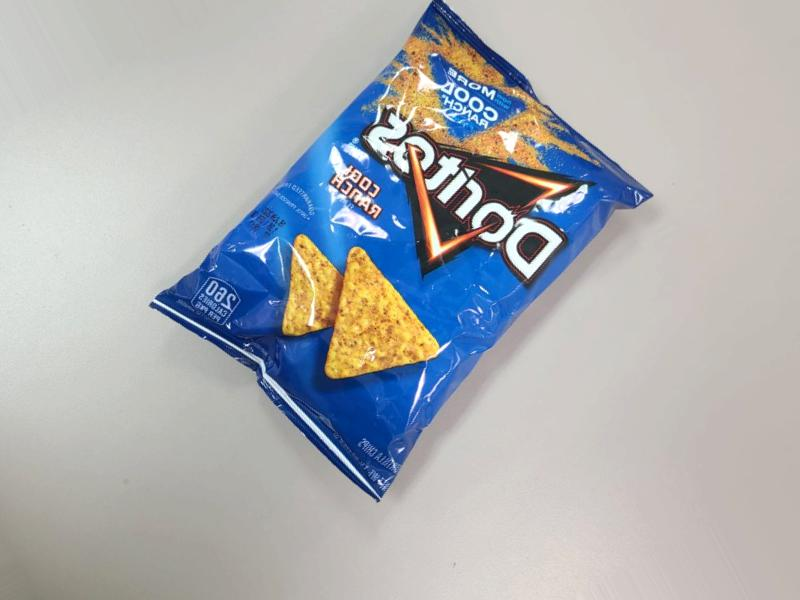doritos: (124, 59, 664, 580)
